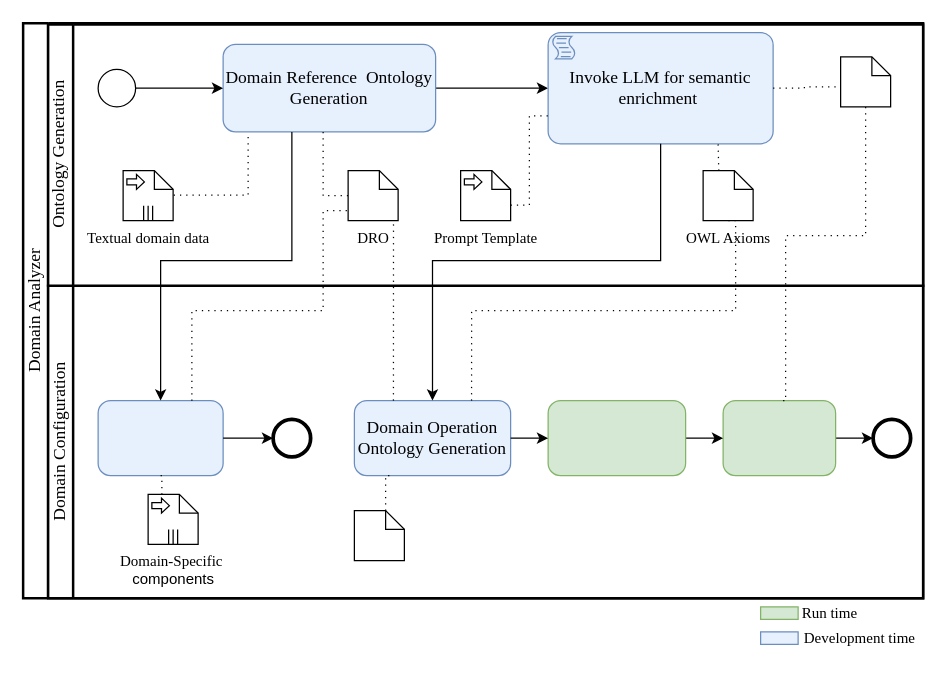
Some shapes in this 949 by 678 pixel diagram are drawn without their labels. The centre of each missing label's shape, as x and y in pixels:
Component Configuration: point 160,437
Composition Model Configuration: point 616,437
DOO: point 378,535
Interface Configuration: point 779,437
NL Domain rules: point 865,81
